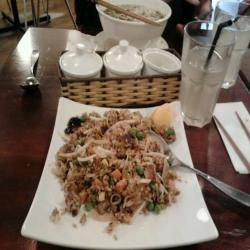rice: (73, 129, 154, 207)
